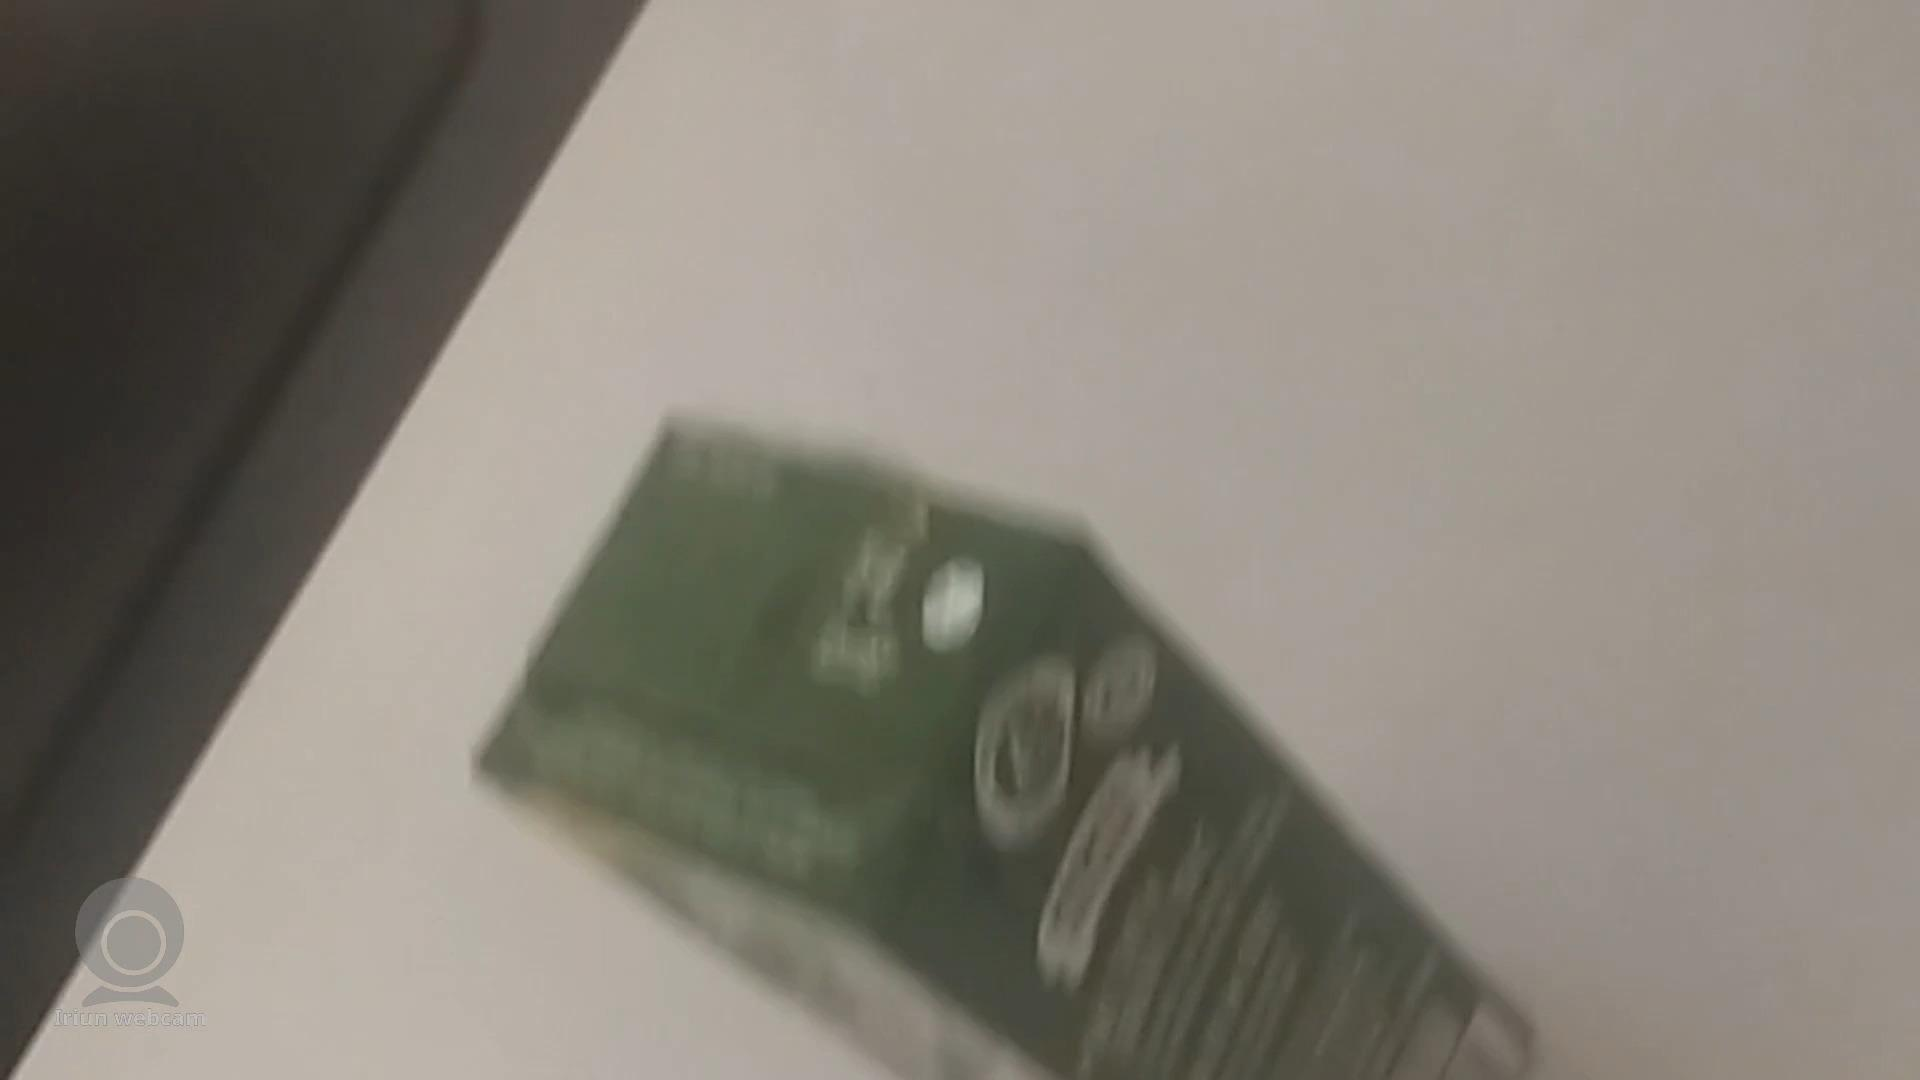coco: (455, 418, 1555, 1080)
